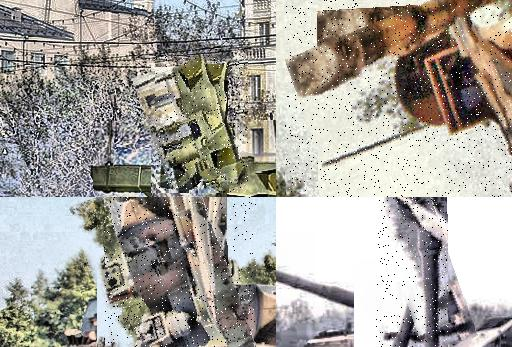tanks: (286, 1, 512, 150), (105, 198, 257, 347), (156, 58, 249, 193), (396, 198, 449, 347), (308, 311, 415, 347)
